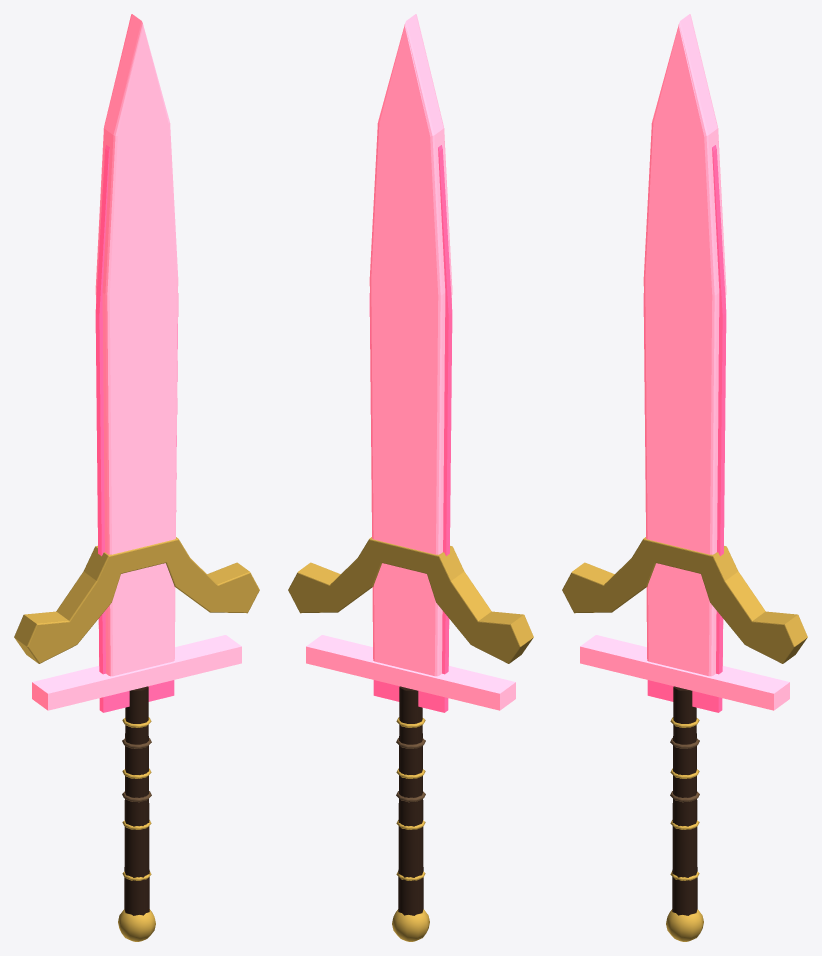
Rendered from greatsword_f2_87541b07.glb.
The picture shows the model from 3 angles, left to right: view 1: azimuth 30°, elevation 25°; view 2: azimuth 150°, elevation 25°; view 3: azimuth 330°, elevation 25°; orthographic projection.
Parts seen in each view (by area): view 1: m3_ow80_, m4_ow80_, m2_ow80_, m0_gm130_; view 2: m3_ow80_, m4_ow80_, m2_ow80_, m0_gm130_; view 3: m3_ow80_, m4_ow80_, m2_ow80_, m0_gm130_.
Part boxes in pixels (x1=…): m3_ow80_: x1=32, y1=14, x2=241, y2=710; m4_ow80_: x1=14, y1=537, x2=259, y2=941; m2_ow80_: x1=124, y1=686, x2=149, y2=915; m0_gm130_: x1=95, y1=145, x2=178, y2=712; m3_ow80_: x1=306, y1=14, x2=515, y2=710; m4_ow80_: x1=288, y1=537, x2=533, y2=941; m2_ow80_: x1=398, y1=686, x2=423, y2=915; m0_gm130_: x1=369, y1=145, x2=452, y2=712; m3_ow80_: x1=580, y1=14, x2=789, y2=710; m4_ow80_: x1=562, y1=537, x2=807, y2=941; m2_ow80_: x1=672, y1=686, x2=697, y2=915; m0_gm130_: x1=643, y1=145, x2=726, y2=712.
Bounding box in the file's own units: 1.01 × 3.82 × 0.137.
